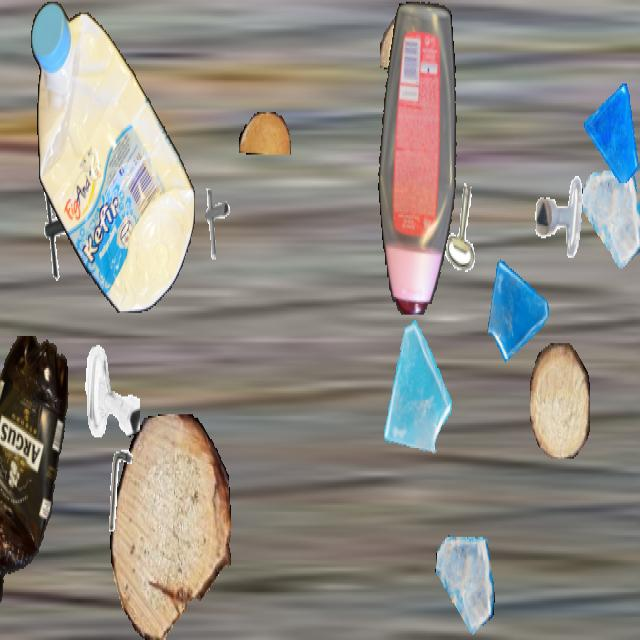glass: (373, 318, 453, 461), (485, 249, 551, 366), (435, 532, 495, 638), (582, 165, 640, 272), (584, 82, 640, 181)
metal: (33, 176, 93, 283), (82, 340, 140, 442), (437, 178, 493, 277), (95, 442, 149, 538), (534, 172, 586, 265), (193, 183, 237, 261)
plastic: (31, 2, 195, 311), (377, 2, 461, 314), (0, 336, 75, 638)
wood: (110, 414, 230, 638), (530, 343, 590, 457), (380, 16, 454, 73), (239, 112, 291, 155)
